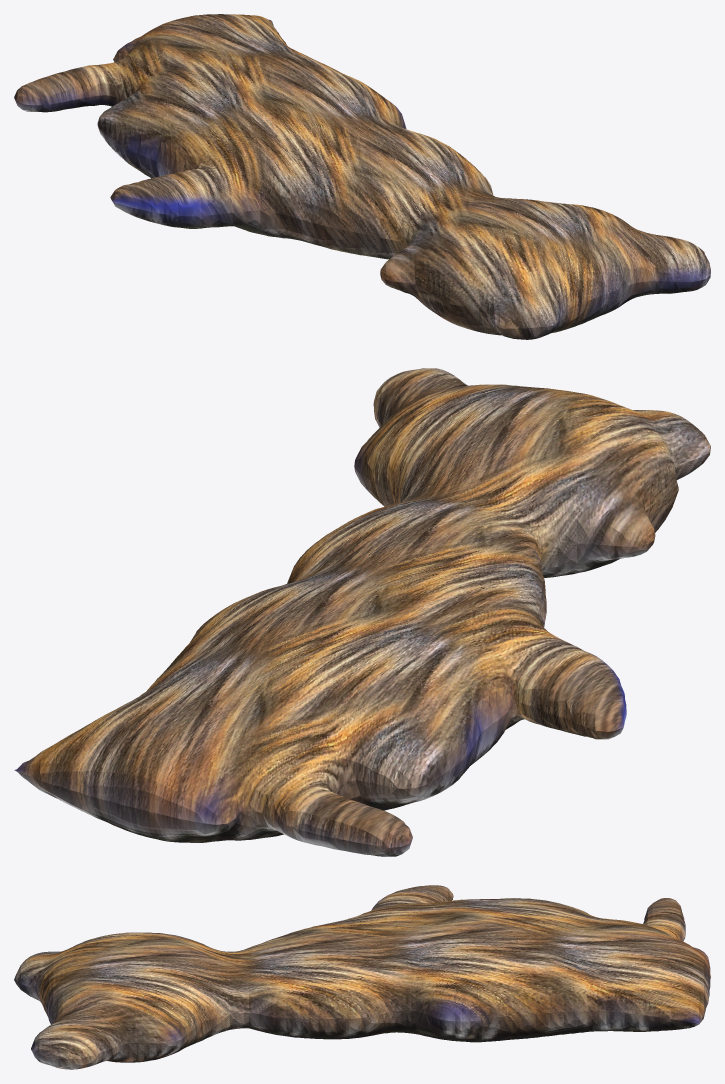
Rendered from 3Bp6bear3D.obj.
3 renders of one model, top to bottom at view 1: azimuth 30°, elevation 25°; view 2: azimuth 150°, elevation 25°; view 3: azimuth 270°, elevation 25°, orthographic. The views are drawn at different scales.
Parts seen in each view (by area): view 1: Object.1; view 2: Object.1; view 3: Object.1.
Part boxes in pixels (bbox=[...]): Object.1: bbox=[14, 14, 710, 339]; Object.1: bbox=[14, 368, 710, 856]; Object.1: bbox=[14, 885, 710, 1069].
Bounding box in the file's own units: 0.1566 × 0.0423 × 0.2739.
Materials: 1 (1 with a texture image).
